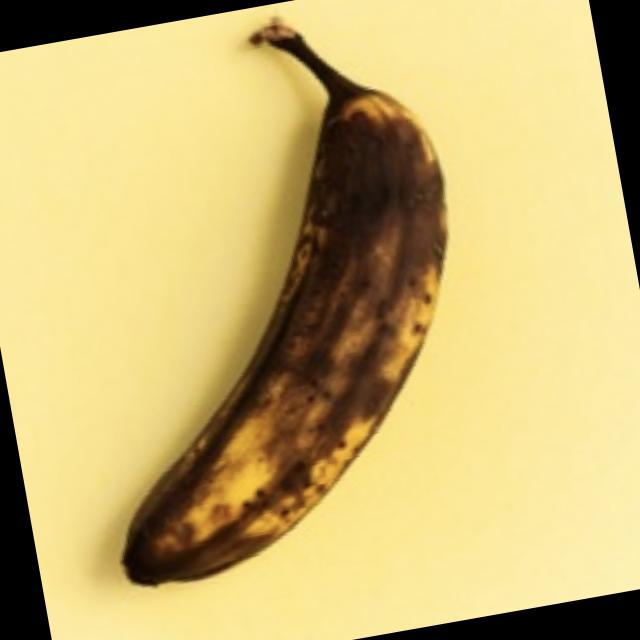rotten-banana: (0, 6, 509, 596)
